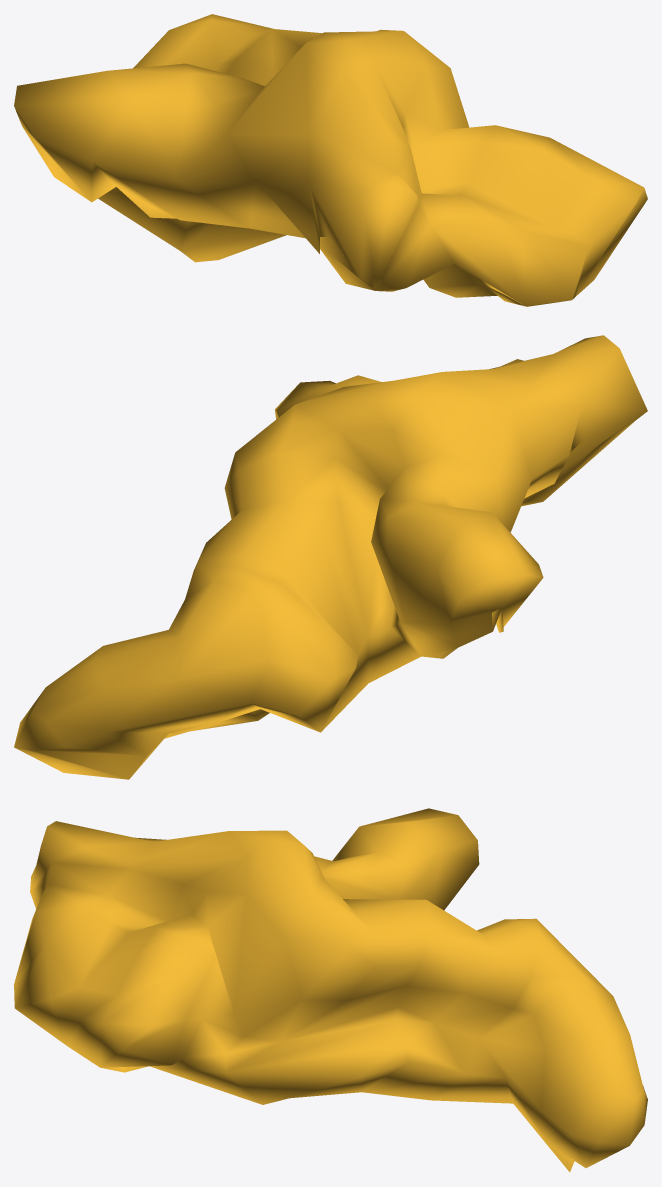
Rendered from nervoso-orbital-sulci-h-shaped-orbital-sulci-r.glb.
3 views of the same model, one above another, from view 1: azimuth 30°, elevation 25°; view 2: azimuth 150°, elevation 25°; view 3: azimuth 270°, elevation 25° (orthographic). The views are drawn at different scales.
Visible parts, largest first — view 1: Orbital sulci (H-shaped orbital sulci*).r; view 2: Orbital sulci (H-shaped orbital sulci*).r; view 3: Orbital sulci (H-shaped orbital sulci*).r.
Part boxes in pixels (<box>): Orbital sulci (H-shaped orbital sulci*).r: <box>14,14,647,306</box>; Orbital sulci (H-shaped orbital sulci*).r: <box>14,335,647,779</box>; Orbital sulci (H-shaped orbital sulci*).r: <box>14,808,647,1172</box>.
Bounding box in the file's own units: 0.0285 × 0.0192 × 0.0415.
